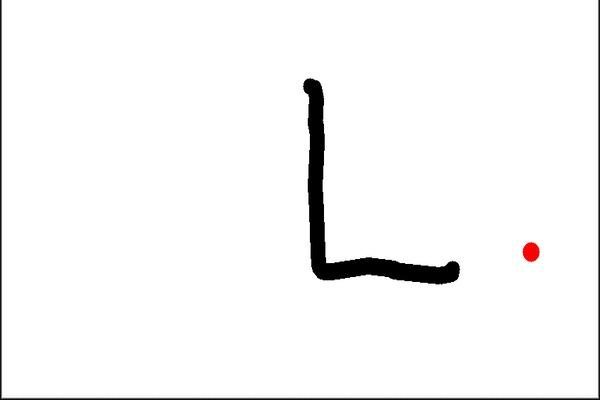L: (291, 70, 469, 293)
